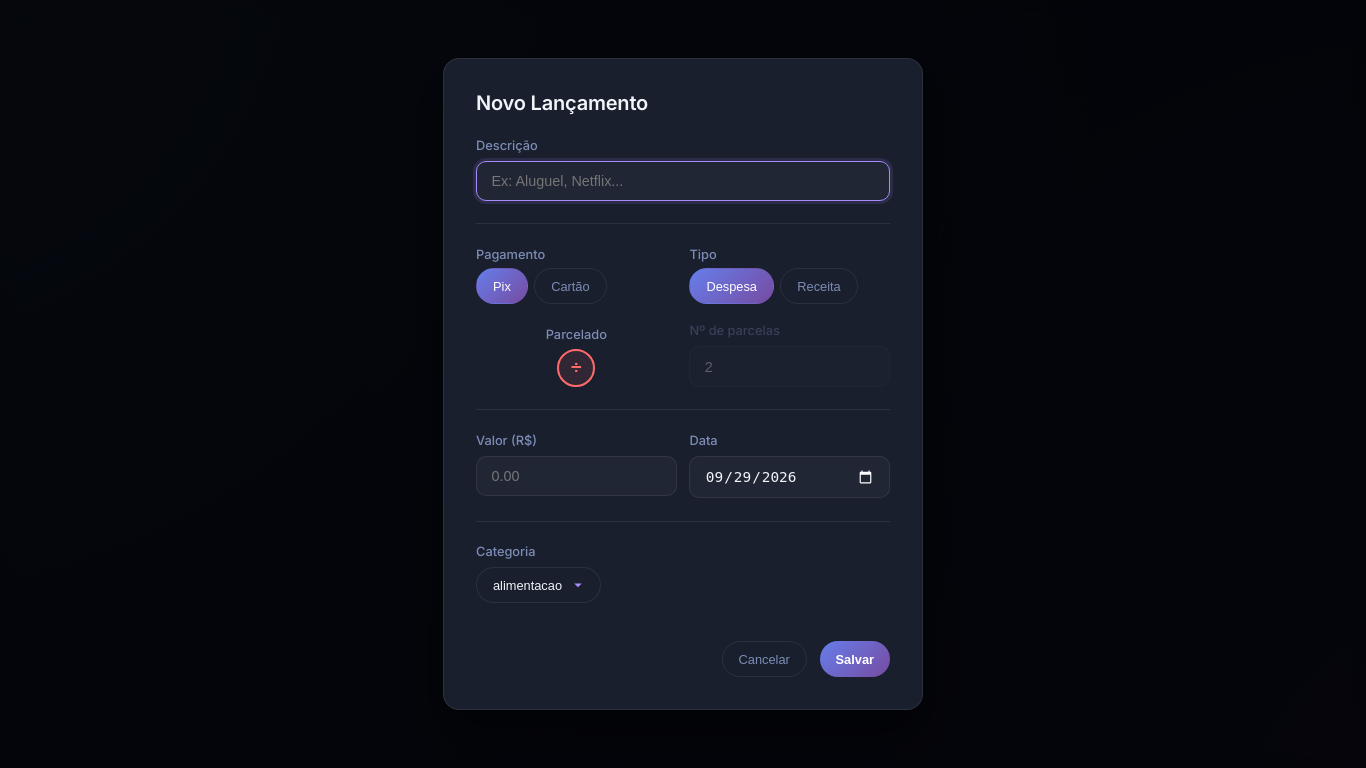
Test: AddTransaction - Value Mode Toggle › preview mostra parcela quando modo é "Valor total"
Click the button named "Ativar parcelamento".
click(576, 368)  # box [557,349,595,387]
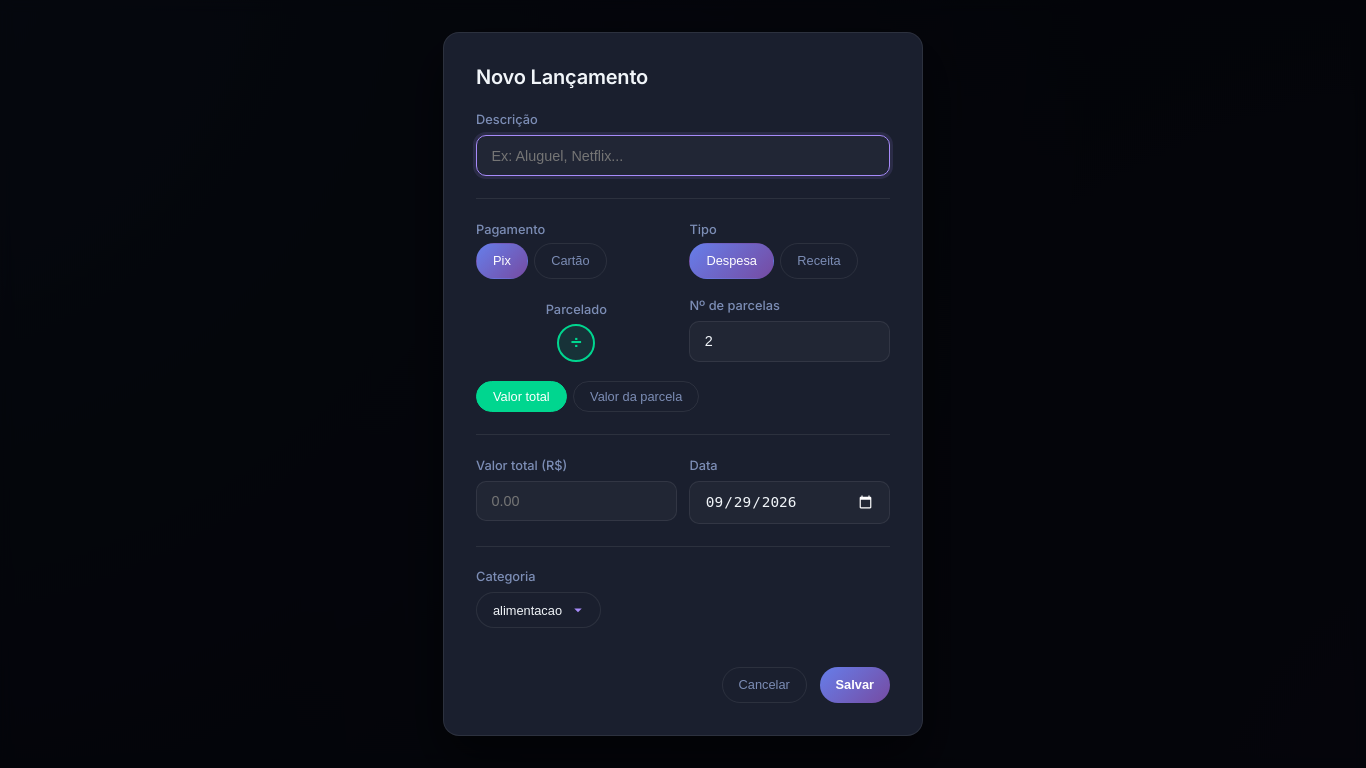
Type "1200" into the number field with placeholder "0.00".
click(576, 501); type("1200")  # box [476,481,677,521]
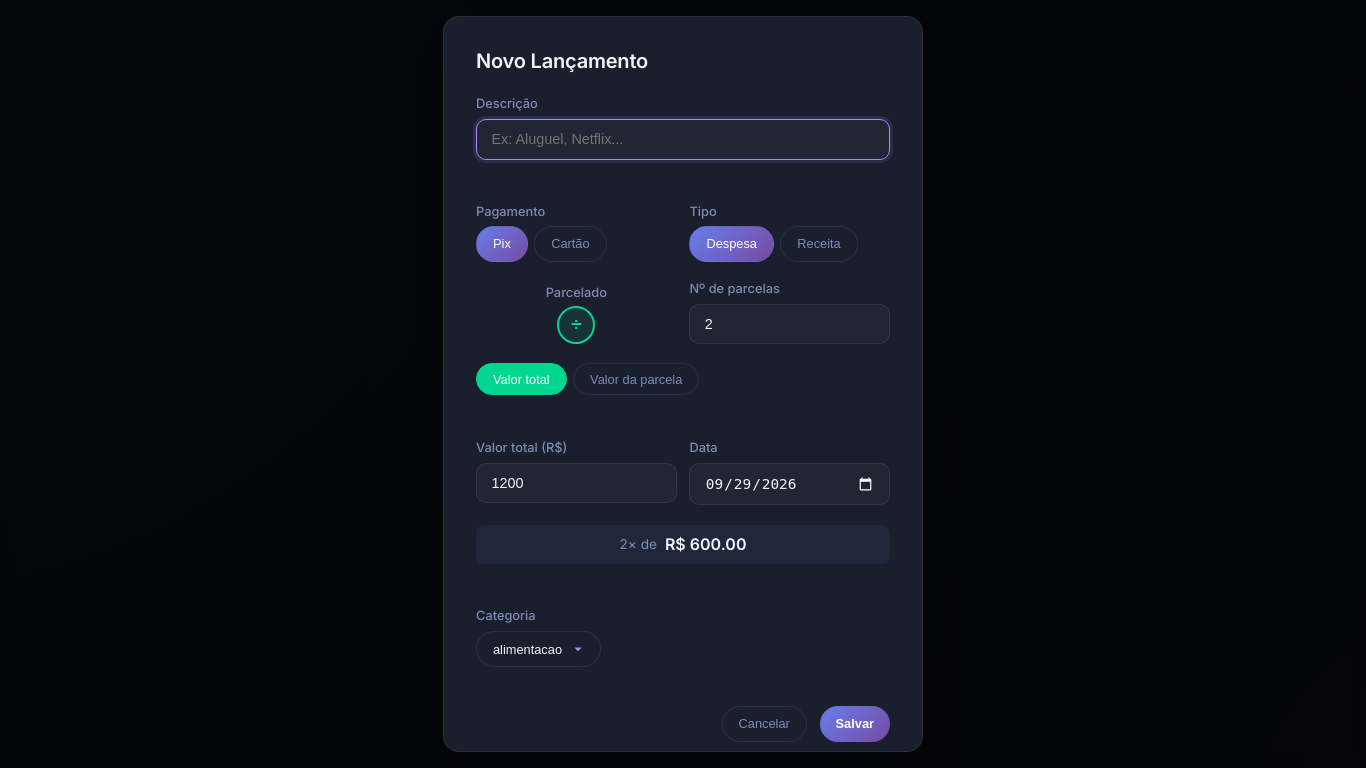
Expected: the text "R$ 600.00" is shown, [665,534,746,554]
Expected: the text "2× de" is shown, [620,536,657,552]
